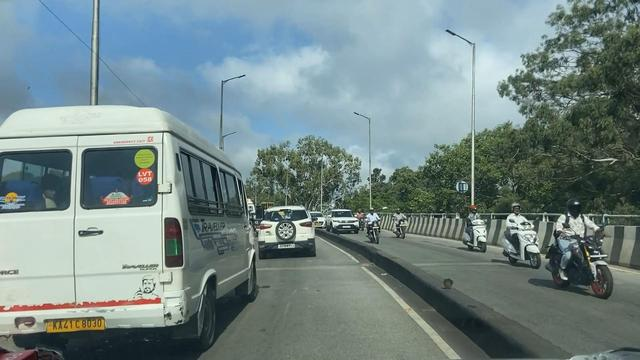HMV: (1, 104, 255, 346)
LMV: (259, 206, 316, 253)
SpeedBump: (255, 263, 367, 272)
